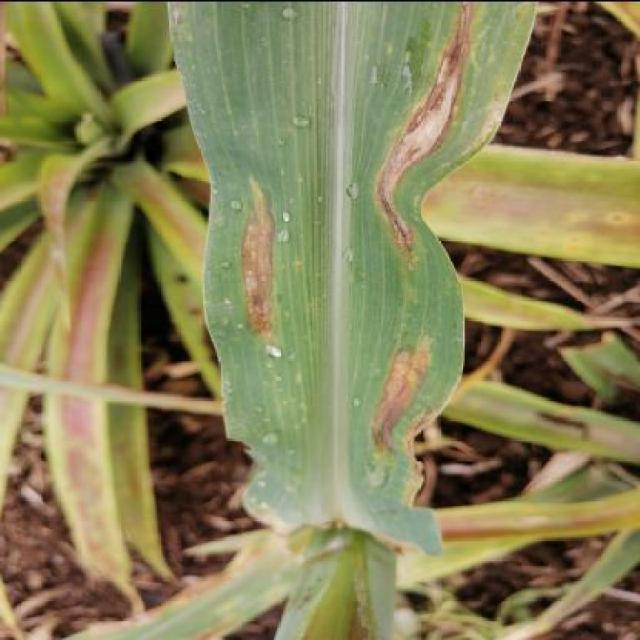Corn_Leaf_Blight: (164, 0, 538, 542)
